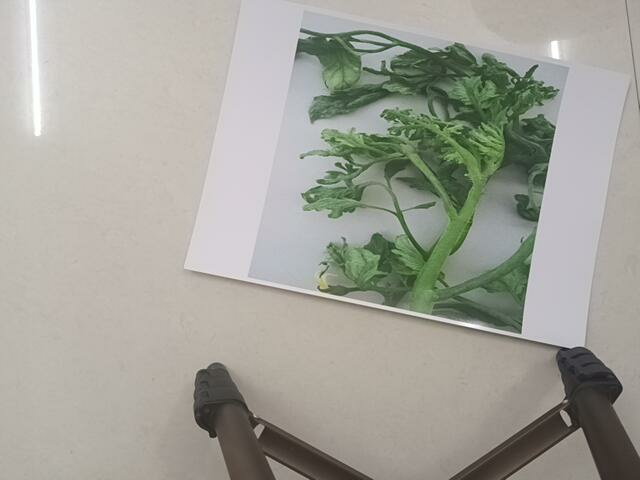Tomamto_Mosaic_virus: (249, 3, 557, 342)
